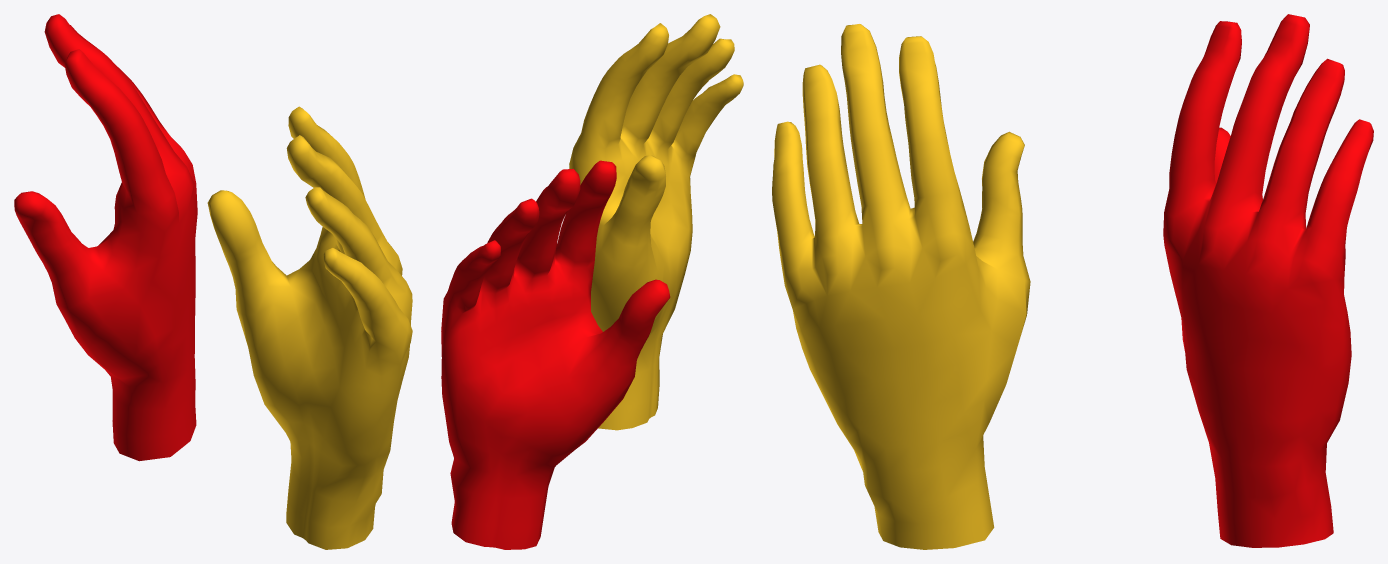
Rendered from Hand.fbx.
3 views of the same model, side by side, from view 1: azimuth 30°, elevation 25°; view 2: azimuth 150°, elevation 25°; view 3: azimuth 270°, elevation 25° (orthographic). The views are drawn at different scales.
Visible parts, largest first — view 1: Hand_Left, Hand_Right; view 2: Hand_Right, Hand_Left; view 3: Hand_Left, Hand_Right.
Boxes of the visible parts, left/top/right/bottom form: Hand_Left: left=207, top=106, right=412, bottom=549; Hand_Right: left=14, top=14, right=197, bottom=461; Hand_Right: left=441, top=160, right=670, bottom=549; Hand_Left: left=569, top=14, right=743, bottom=430; Hand_Left: left=772, top=24, right=1030, bottom=549; Hand_Right: left=1163, top=14, right=1373, bottom=547.
Bounding box in the file's own units: 1332 × 2454 × 2664.
